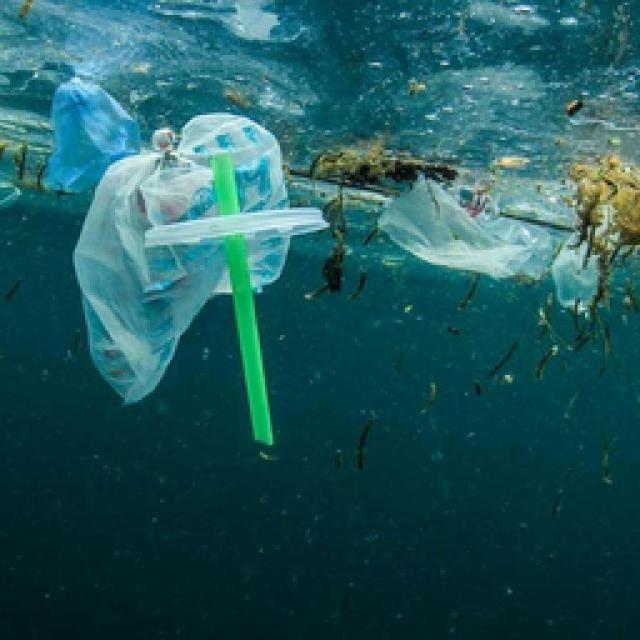plastic: (205, 148, 277, 448)
